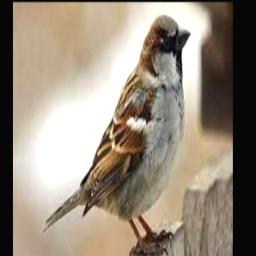Sparrow: (44, 16, 191, 256)
